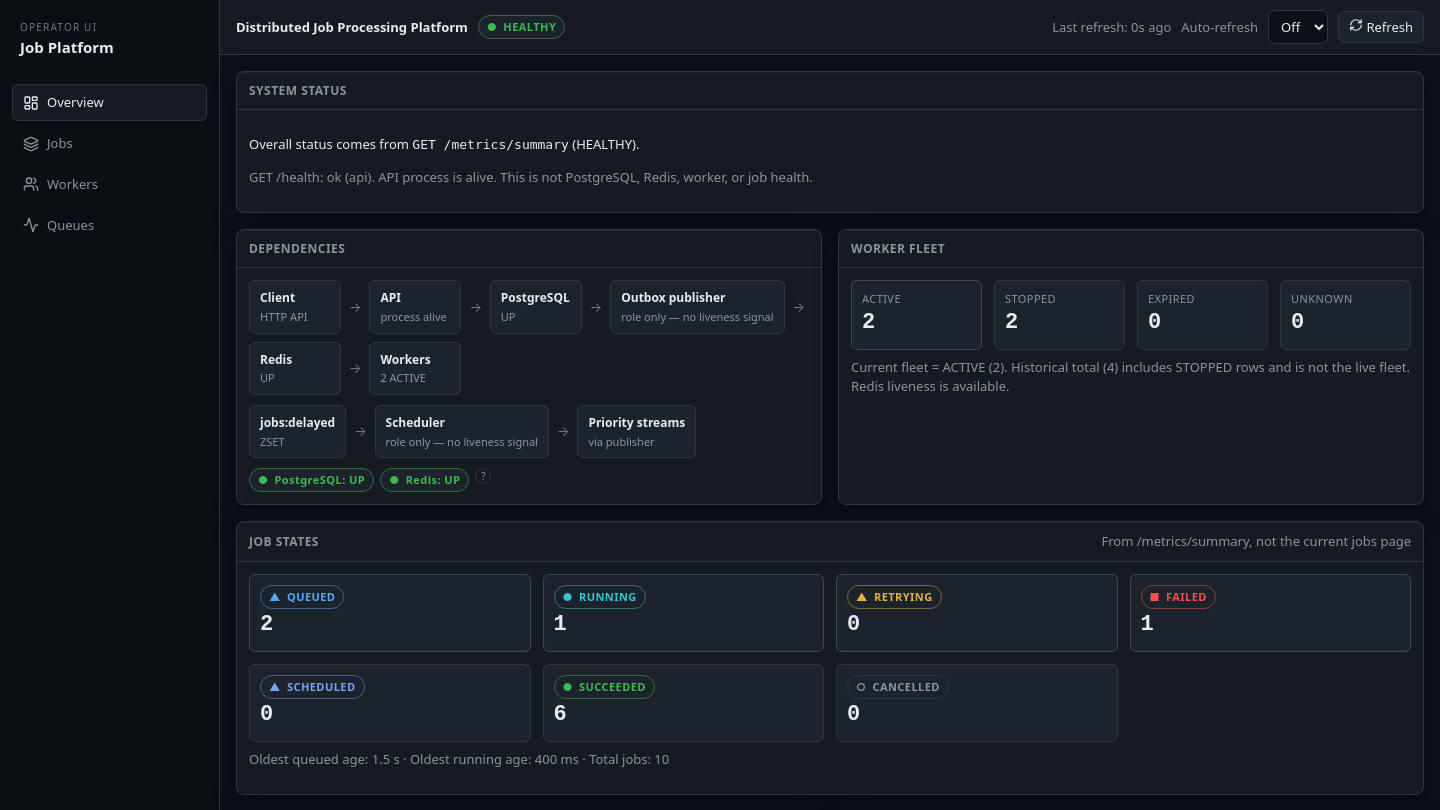
Test case: operator dashboard › keeps the shell, shows DISCONNECTED, and retains stale last-good data
Check: the element with test id "overall-status" shows "HEALTHY", box [503,19,556,34]
Check: the navigation bar named "Primary" is shown, box [12,84,207,244]
Click the button with aria-label "Refresh now". click: (1381, 27)
box: [1338,11,1424,43]
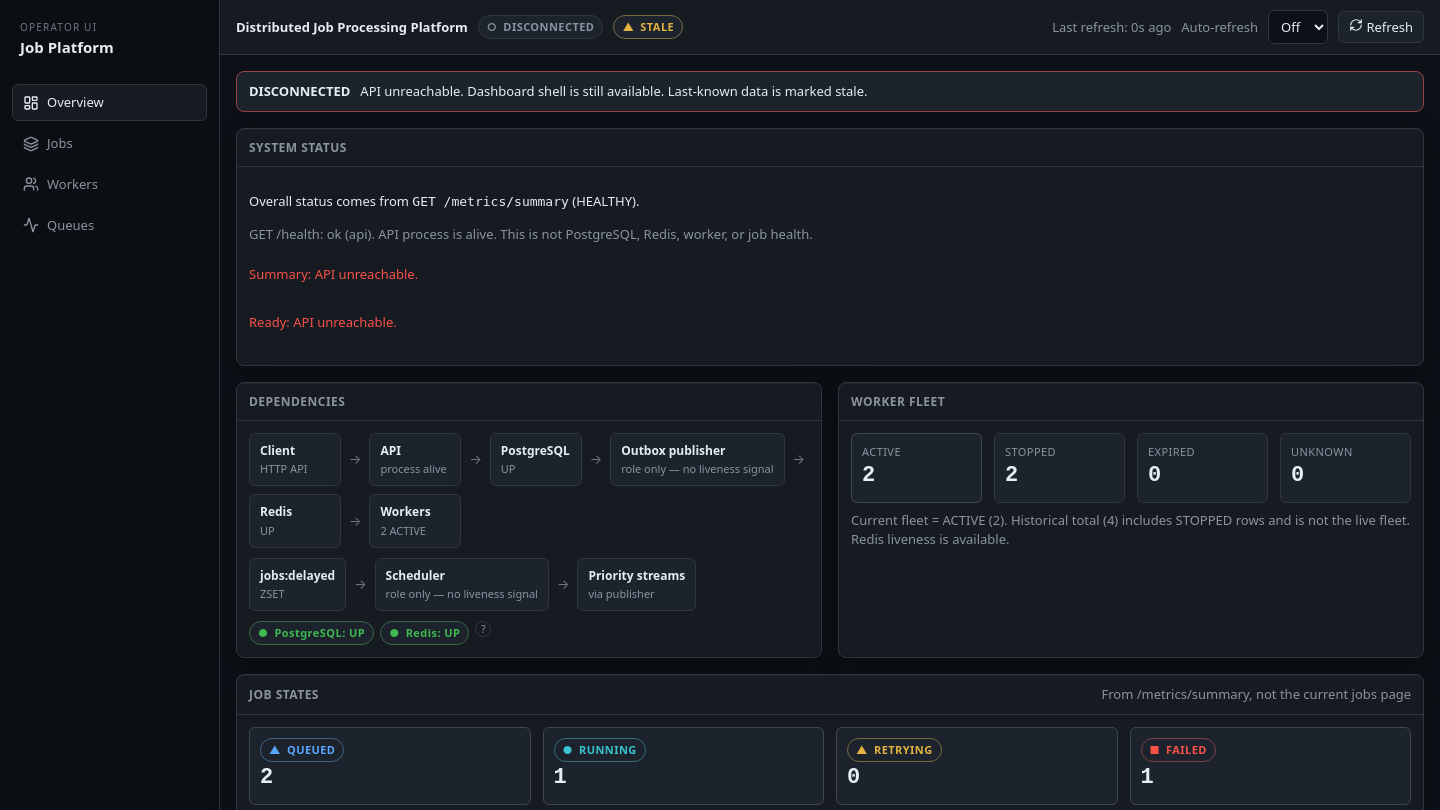
Check: the navigation bar named "Primary" is shown, box [12,84,207,244]
Check: the element with test id "overall-status" shows "DISCONNECTED", box [503,19,594,34]
Check: the text "STALE" is shown, box [640,19,674,35]
